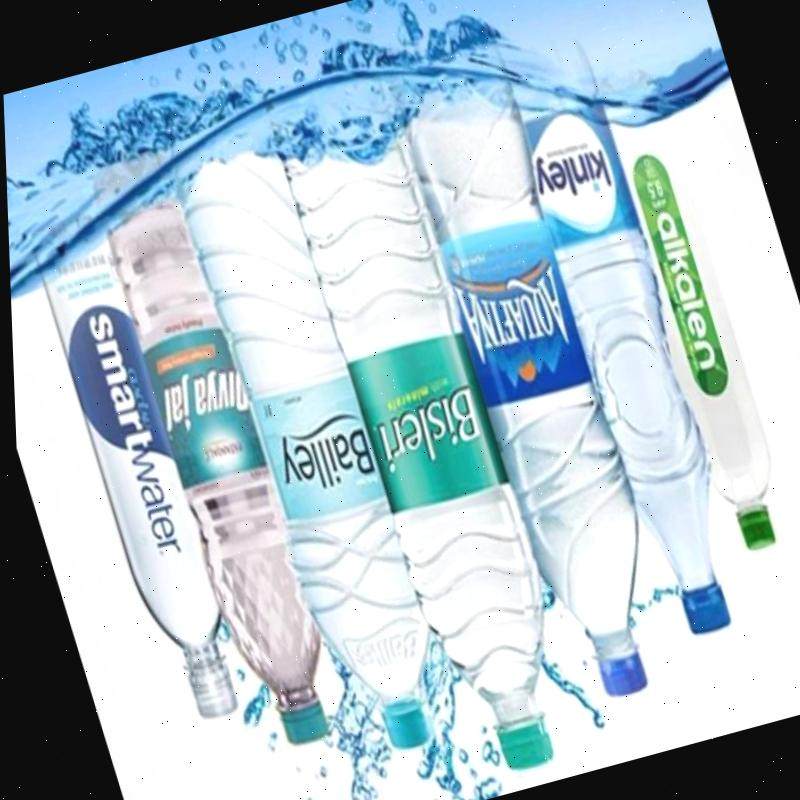botella: (274, 111, 589, 781), (397, 94, 684, 707), (169, 151, 455, 764), (505, 88, 755, 642), (99, 201, 344, 755)
